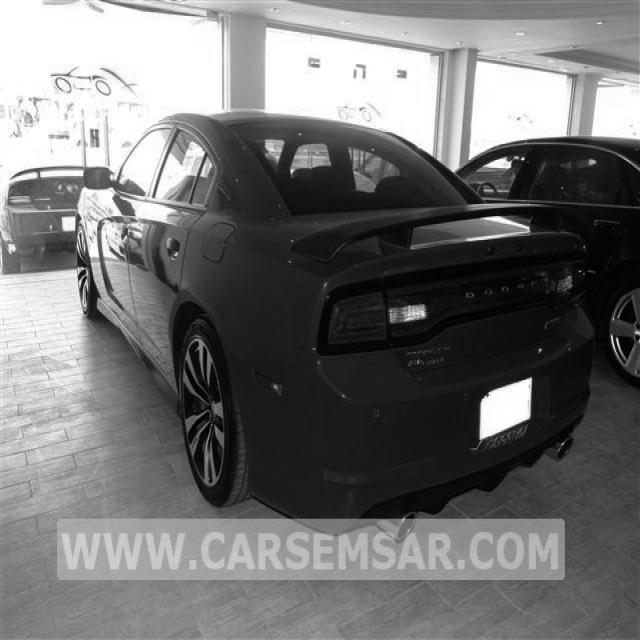car: (74, 108, 595, 520), (453, 135, 639, 388), (0, 164, 86, 261)
